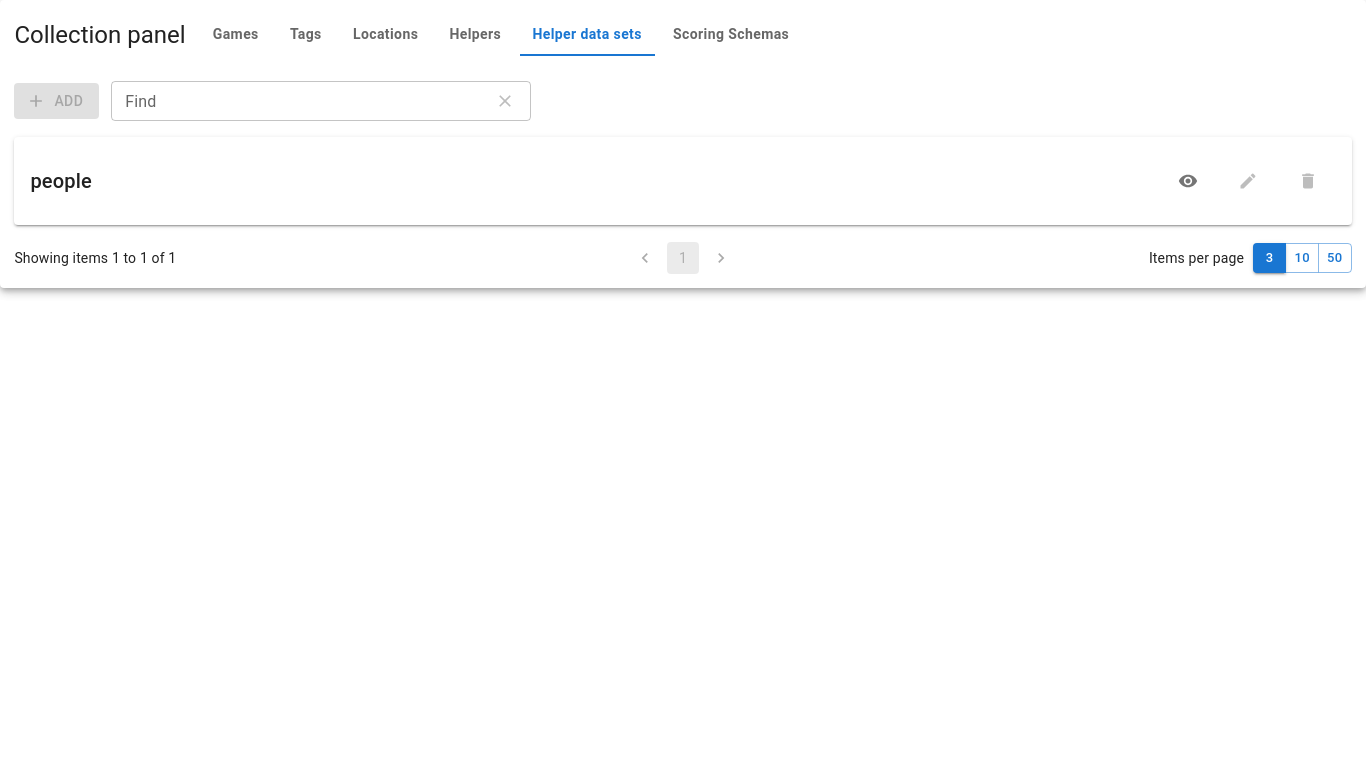
it: collection data permissions › READ allows viewing set but no writes, even for owned items
The width and height of the screenshot is (1366, 768).
Expected: the heading "people" is shown, left=30, top=169, right=92, bottom=193
Expected: the button "Add" is disabled, left=14, top=83, right=99, bottom=119
Click the button named "View item": (1188, 181) left=1160, top=153, right=1216, bottom=209
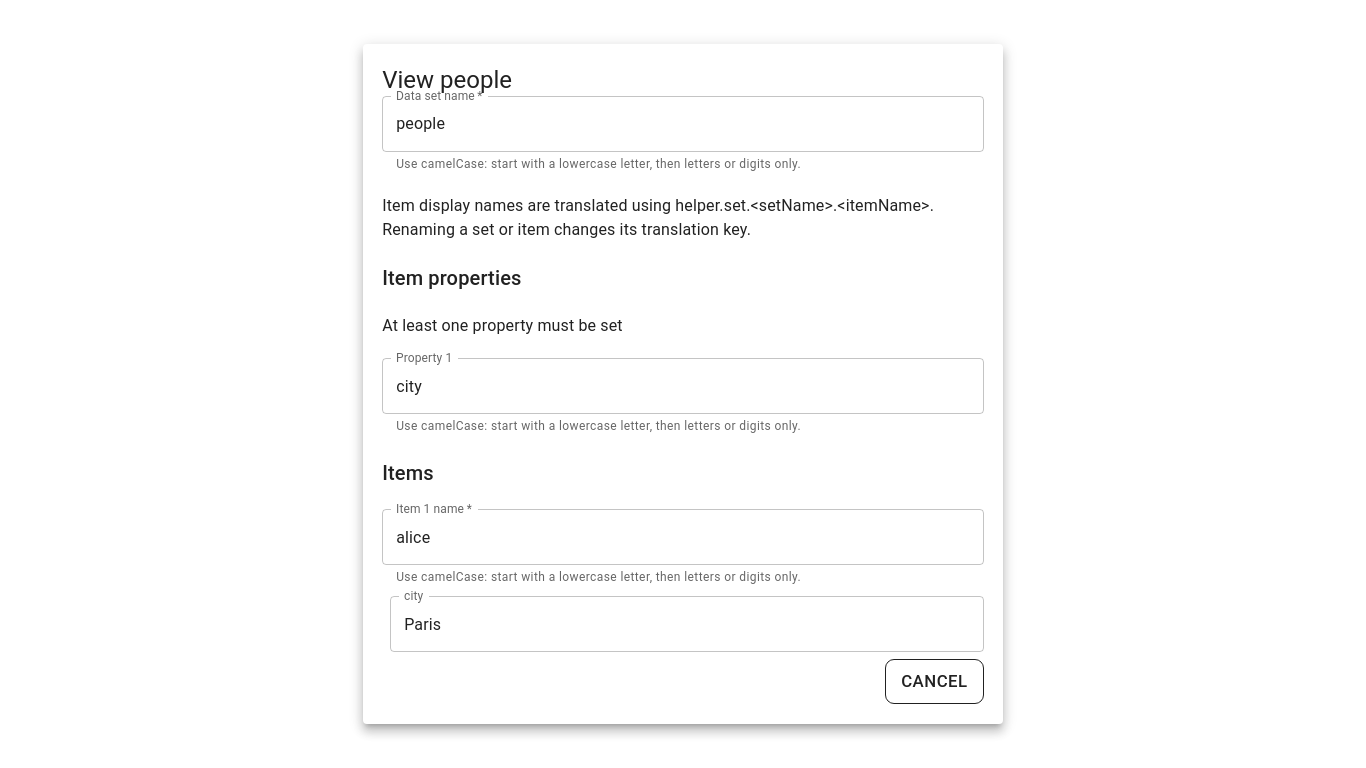
Expected: the heading "View people" is shown, left=382, top=66, right=512, bottom=94
